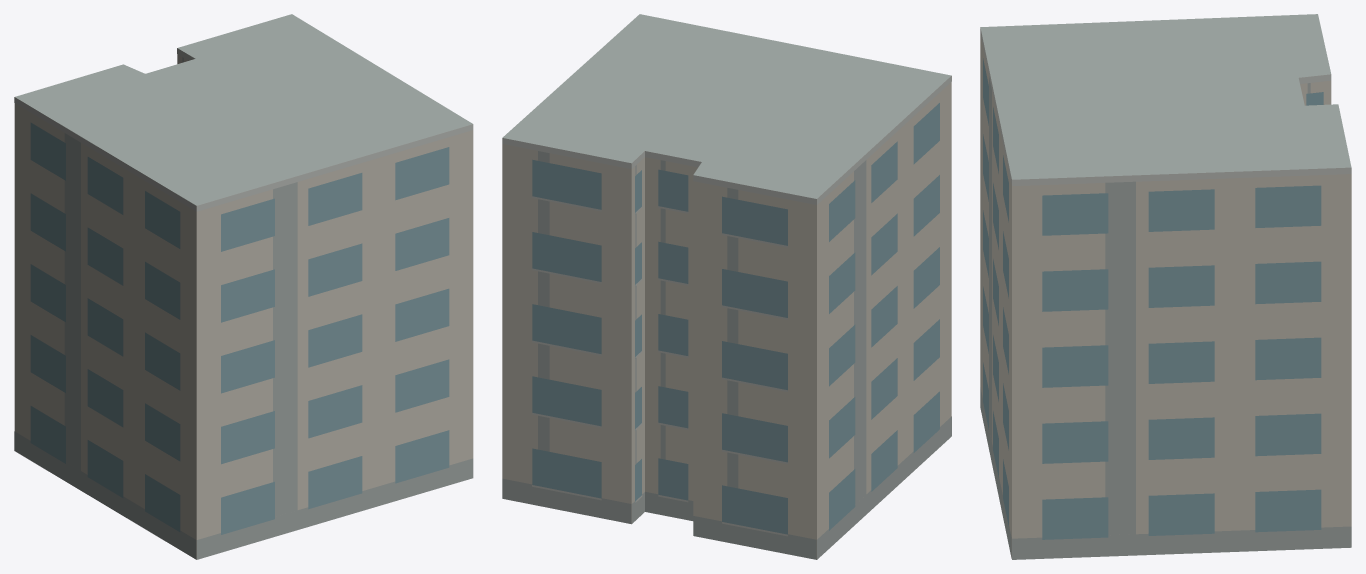
Rendered from survey-upis-32914027.glb.
3 renders of one model, left to right at view 1: azimuth 30°, elevation 25°; view 2: azimuth 150°, elevation 25°; view 3: azimuth 270°, elevation 25°, orthographic. The views are drawn at different scales.
Visible parts, largest first — view 1: survey-upis-32914027.tmp; view 2: survey-upis-32914027.tmp; view 3: survey-upis-32914027.tmp.
Part boxes in pixels (x1,y1,x2,y2): survey-upis-32914027.tmp: (14, 14, 473, 559); survey-upis-32914027.tmp: (502, 14, 951, 559); survey-upis-32914027.tmp: (980, 14, 1351, 559).
Bounding box in the file's own units: 13.57 × 14.5 × 12.84.
